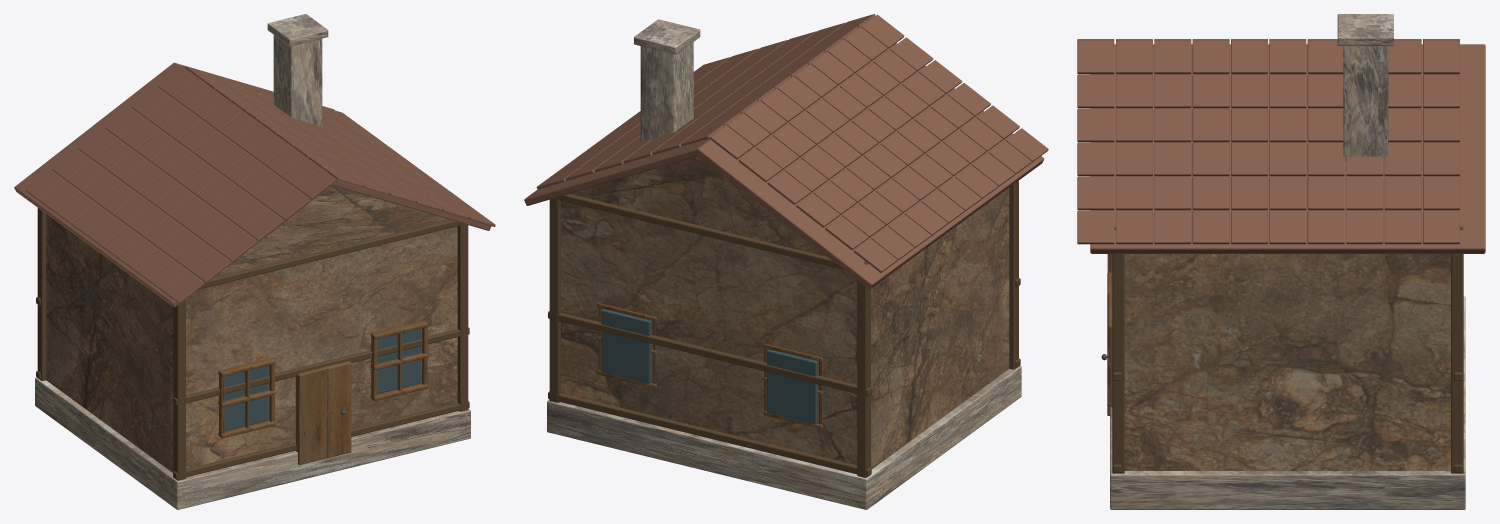
Rendered from house_1.glb.
3 renders of one model, left to right at view 1: azimuth 30°, elevation 25°; view 2: azimuth 150°, elevation 25°; view 3: azimuth 270°, elevation 25°, orthographic. The views are drawn at different scales.
Parts seen in each view (by area): view 1: plaster walls, roof surface, stone foundation, corner timber, window jamb, window inset; view 2: plaster walls, roof surface, stone foundation, corner timber, window inset, window jamb; view 3: roof surface, plaster walls, stone foundation, corner timber, window jamb.
Part boxes in pixels (bbox=[...]): plaster walls: bbox=[46, 185, 457, 472]; roof surface: bbox=[14, 62, 495, 307]; stone foundation: bbox=[35, 14, 470, 509]; corner timber: bbox=[36, 208, 469, 480]; window jamb: bbox=[218, 320, 427, 464]; window inset: bbox=[224, 328, 420, 431]; plaster walls: bbox=[561, 156, 1009, 469]; roof surface: bbox=[524, 14, 1048, 289]; stone foundation: bbox=[547, 19, 1021, 509]; corner timber: bbox=[548, 180, 1020, 477]; window inset: bbox=[601, 309, 817, 424]; window jamb: bbox=[597, 303, 822, 428]; roof surface: bbox=[1077, 39, 1485, 253]; plaster walls: bbox=[1124, 254, 1450, 470]; stone foundation: bbox=[1110, 14, 1465, 509]; corner timber: bbox=[1112, 226, 1463, 473]; window jamb: bbox=[1107, 254, 1112, 415].
Size of the model in its own units: 8.15 by 8.64 by 7.23.
Materials: 7 (3 with a texture image).
